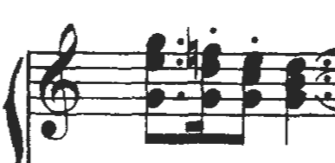treble_clef: (34, 15, 86, 150)
